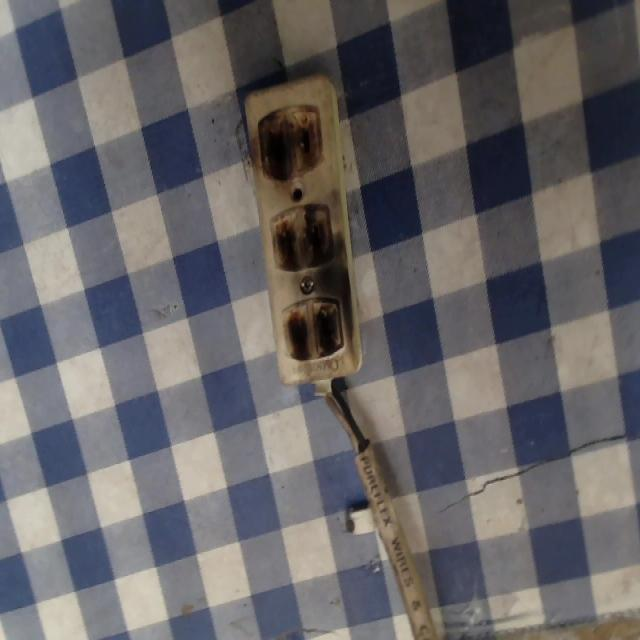-: (250, 107, 326, 180), (271, 297, 352, 363), (265, 205, 339, 272)
